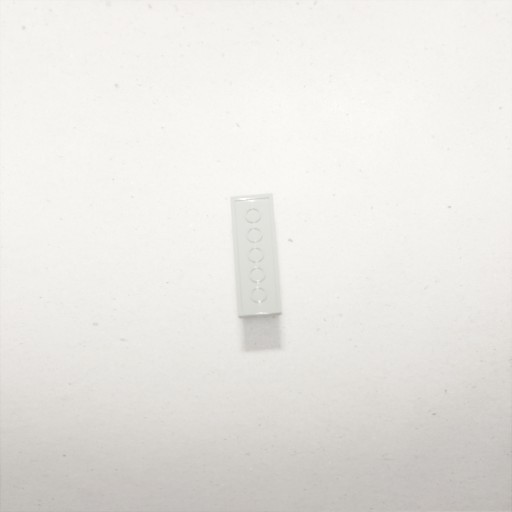lego: (230, 193, 282, 319)
